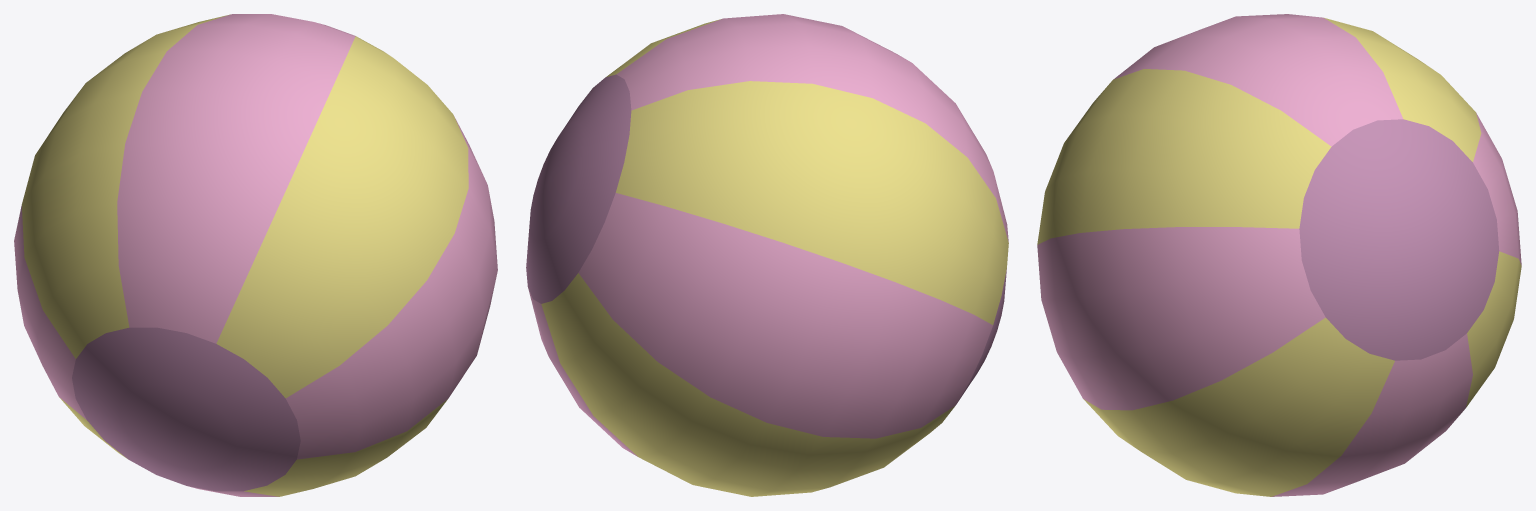
File: ball2.fbx
3 views of the same model, side by side, from view 1: azimuth 30°, elevation 25°; view 2: azimuth 150°, elevation 25°; view 3: azimuth 270°, elevation 25° (orthographic).
Visible parts, largest first — view 1: 球体; view 2: 球体; view 3: 球体.
Part boxes in pixels (<box>): 球体: <box>14,14,497,496</box>; 球体: <box>526,14,1008,496</box>; 球体: <box>1037,14,1521,496</box>.
Bounding box in the file's own units: 19.91 × 19.85 × 19.75.
